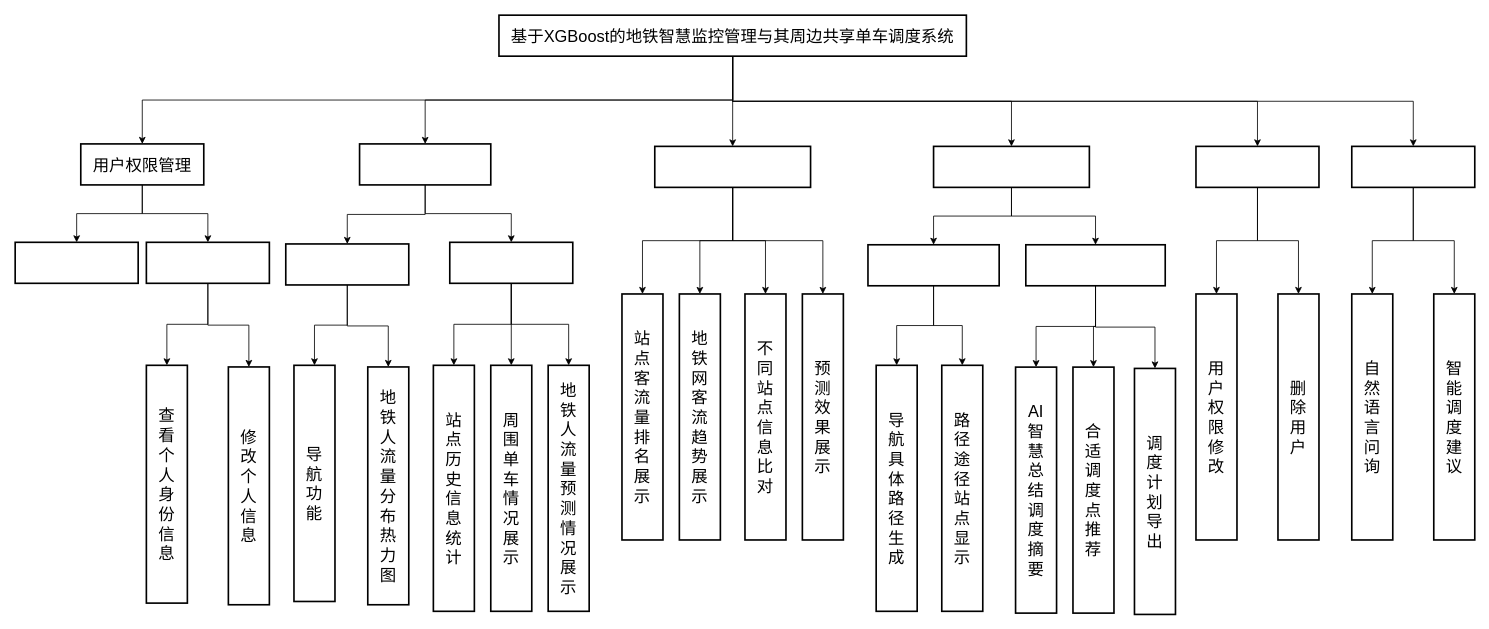
Some shapes in this 1489 by 629 pixel diagram are drawn without their labels. Each missing label, with the centre of its shape:
"AI助手功能" belongs at [1413,166].
"个人信息管理" belongs at [207,262].
"单车调度规划功能" belongs at [1011,166].
"单车调度计划制定" belongs at [1095,265].
"后台管理" belongs at [1257,166].
"地图控制台" belongs at [424,164].
"地铁信息全览" belongs at [347,264].
"数据分析功能" belongs at [732,166].
"登录注册认证" belongs at [76,262].
"站点信息详情" belongs at [511,262].
"调度路径规划" belongs at [933,265].
